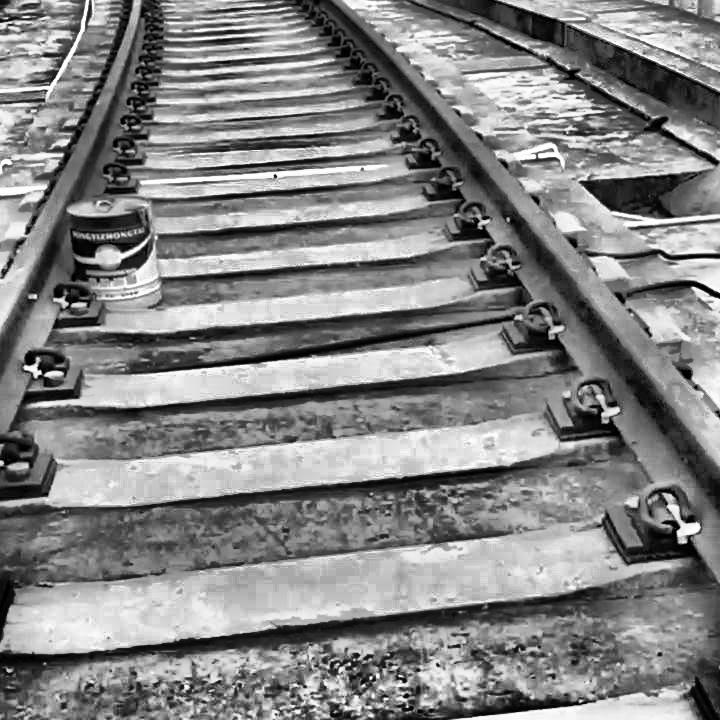Trash: (59, 175, 185, 316)
